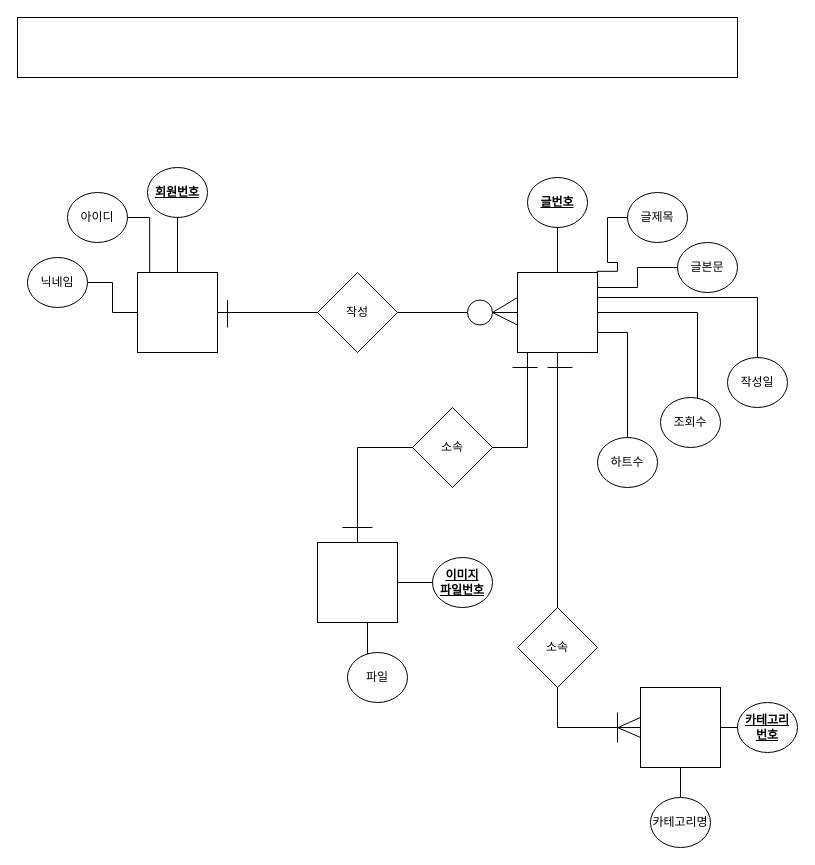
This 815x865 diagram has some shape labels left out. The shapes that lost their labels are listed below. From the top down, each one's centre as x and y in pixels, then its label:
the point at 377,47: 엘로히스트 - 한문장의 울림 ERD 모델링
the point at 177,312: 회원
the point at 557,312: 게시글
the point at 357,582: 이미지
the point at 680,727: 카테고리
